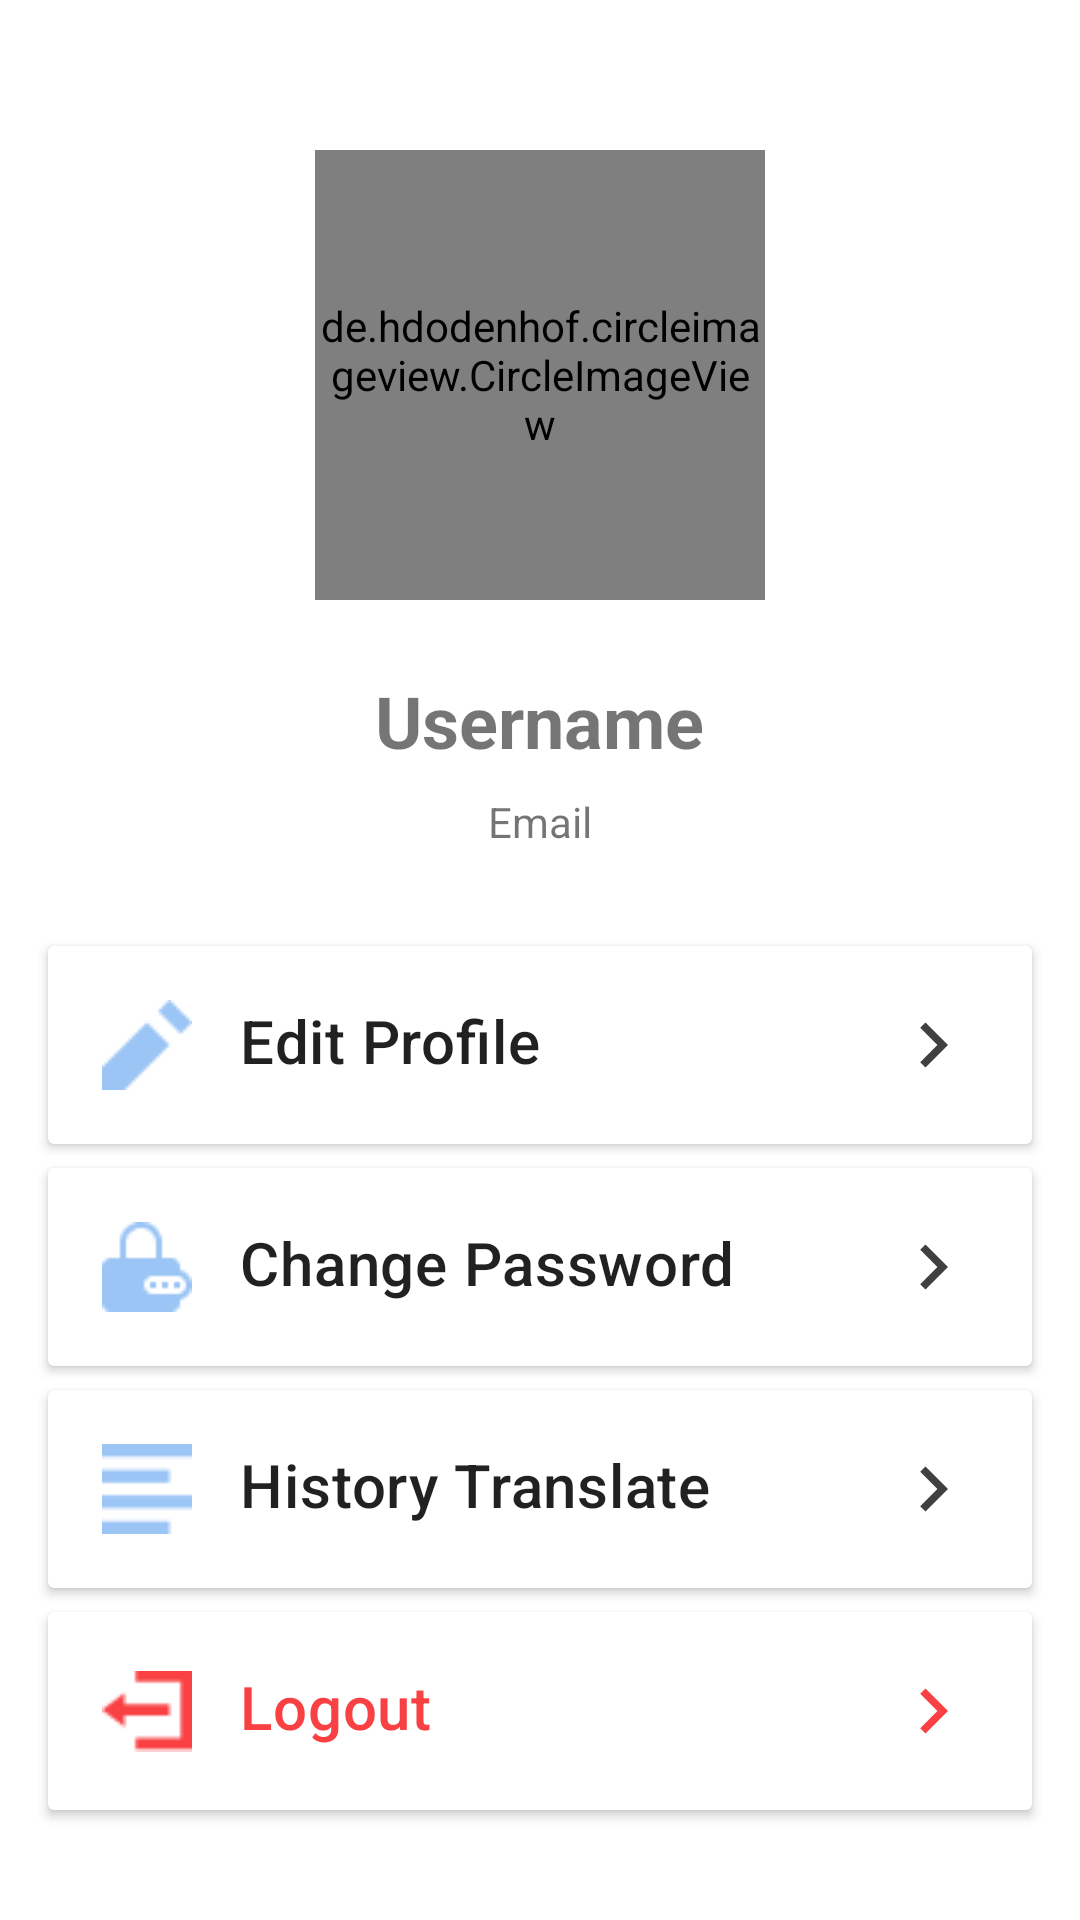

Named icons in this screenshot (1080px x 1920px) and their bounding boxes, (x1, y1, x2, y2):
arrow right: (920, 1022, 948, 1068), (920, 1244, 948, 1290), (920, 1466, 948, 1512), (920, 1688, 948, 1734)
leave: (102, 1671, 192, 1752)
